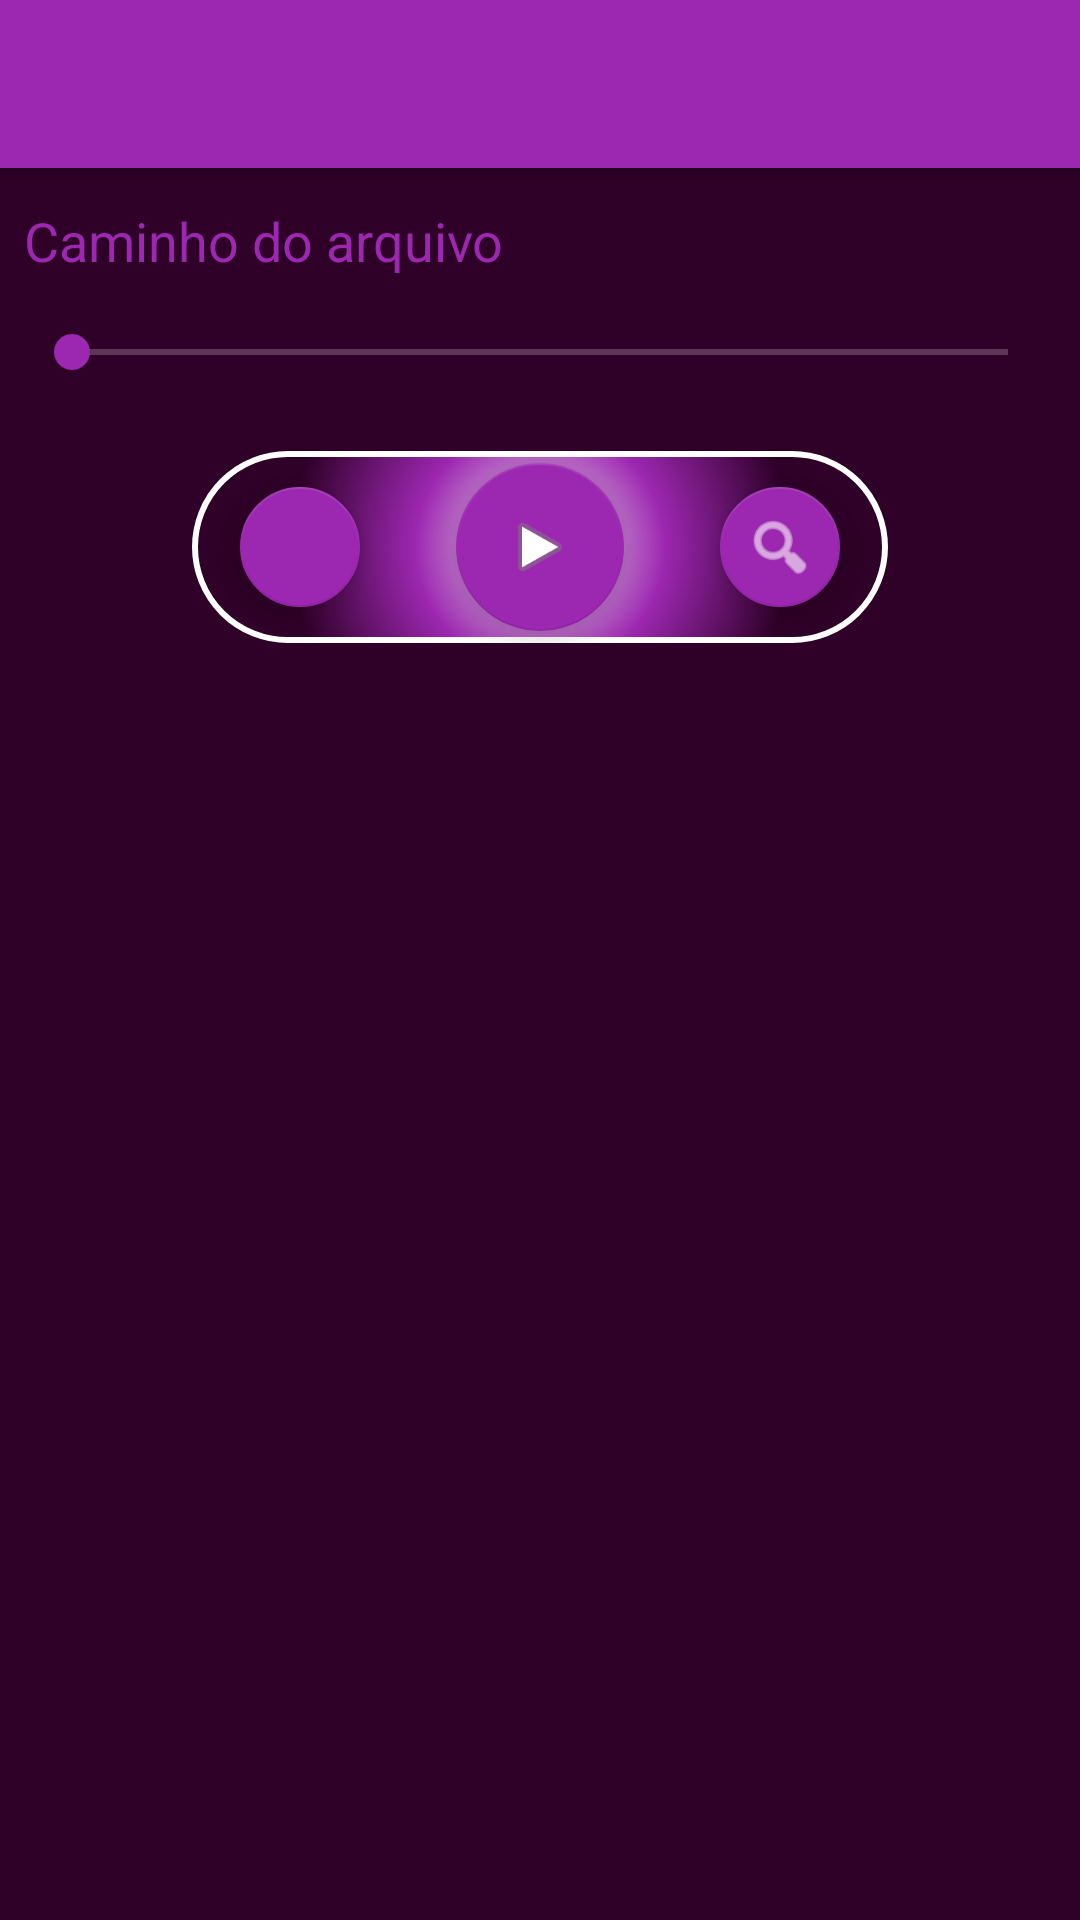

Screen size 1080px x 1920px. Icon name, then its center in pixels as (x=x, y=y):
play: (x=540, y=548)
search: (x=780, y=547)
